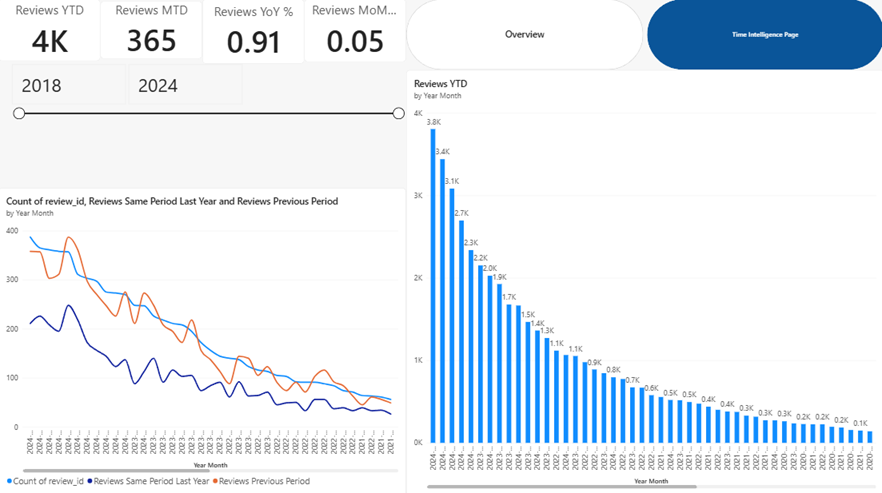

The page's visual inventory and layout, read from the dashboard file:
{"tool":"powerbi","page":{"name":"Time Intelligence Page","canvas":[1920,1080],"ordinal":1},"visuals":[{"type":"lineChart","fields":{"Category":["dim_date.Year Month"],"Y":["CountNonNull(reviews.review_id)","reviews.Reviews Same Period Last Year","reviews.Reviews Previous Period"]},"box":[0,409.7,884.4,669.8],"z":0},{"type":"pageNavigator","box":[884.4,0,1036.1,153.9],"z":1000},{"type":"cardVisual","fields":{"Data":["reviews.Reviews YTD"]},"box":[0,0,221.1,134.4],"z":2000},{"type":"cardVisual","fields":{"Data":["reviews.Reviews MTD"]},"box":[221.1,4.3,221.1,125.7],"z":3000},{"type":"cardVisual","fields":{"Data":["reviews.Reviews YoY %"]},"box":[442.2,0,221.1,140.9],"z":4000},{"type":"cardVisual","fields":{"Data":["reviews.Reviews MoM %"]},"box":[663.3,0,221.1,136.6],"z":5000},{"type":"columnChart","fields":{"Category":["dim_date.Year Month"],"Y":["reviews.Reviews YTD"]},"box":[884.4,153.9,1036.1,925.5],"z":6000},{"type":"slicer","fields":{"Values":["dim_date.Year"]},"box":[21.7,136.6,862.7,266.6],"z":7000}]}

Visuals, with their boxes in screenshot pixels (x1, y1, x2, y2), scaled from the page's 1920x1080 canvas onto the 882x493 screenshot:
lineChart - dim_date.Year Month x CountNonNull(reviews.review_id): left=0, top=187, right=406, bottom=492
pageNavigator: left=406, top=0, right=881, bottom=70
cardVisual - reviews.Reviews YTD: left=0, top=0, right=102, bottom=61
cardVisual - reviews.Reviews MTD: left=102, top=2, right=203, bottom=59
cardVisual - reviews.Reviews YoY %: left=203, top=0, right=305, bottom=64
cardVisual - reviews.Reviews MoM %: left=305, top=0, right=406, bottom=62
columnChart - dim_date.Year Month x reviews.Reviews YTD: left=406, top=70, right=881, bottom=492
slicer - dim_date.Year: left=10, top=62, right=406, bottom=184
